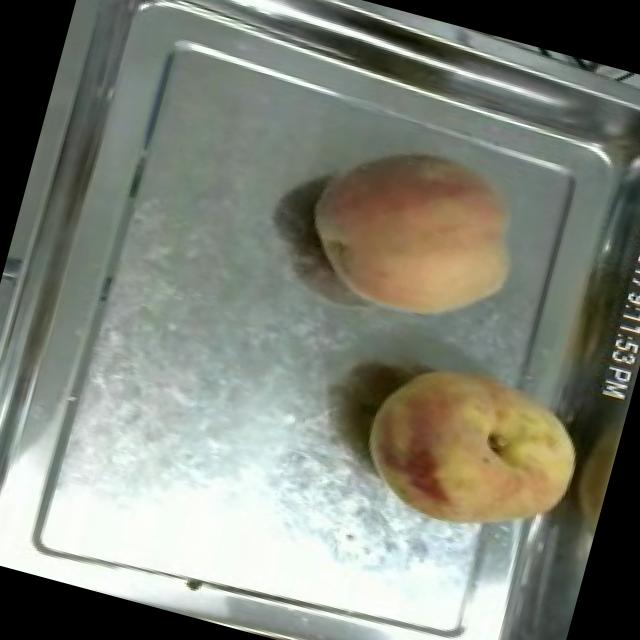Fruit: (338, 333, 606, 564), (284, 114, 545, 347)
